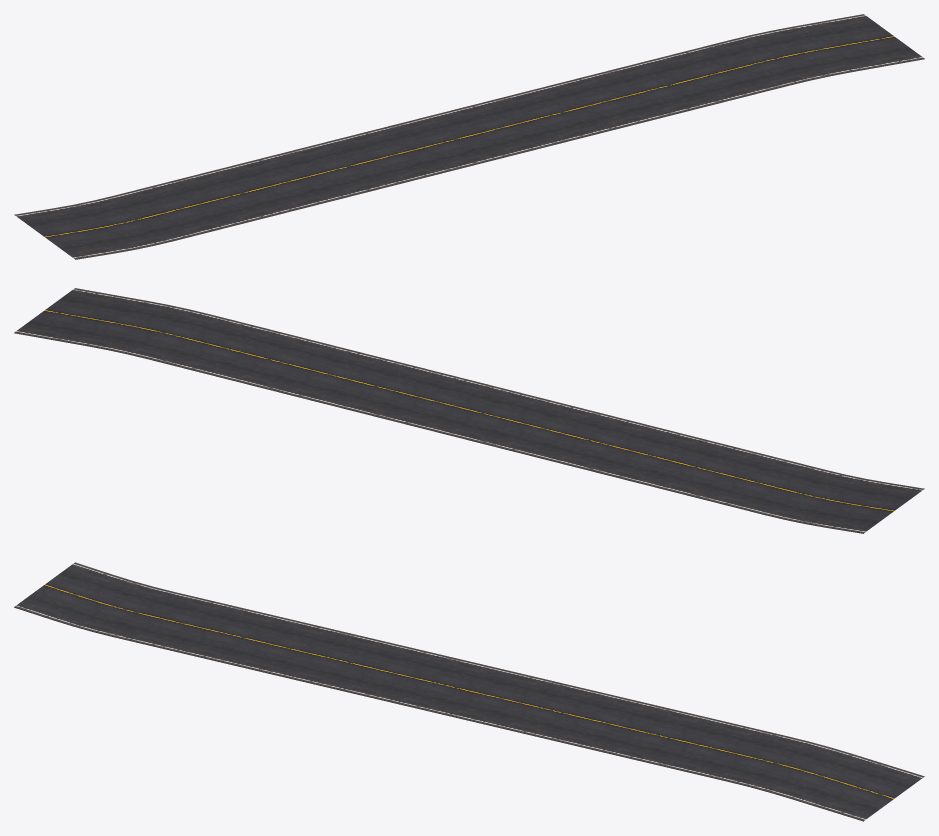
The model's file is TRF0110013.fbx.
The picture shows the model from 3 angles, top to bottom: view 1: azimuth 30°, elevation 25°; view 2: azimuth 150°, elevation 25°; view 3: azimuth 330°, elevation 25°; orthographic projection.
Parts seen in each view (by area): view 1: smTRF0110013; view 2: smTRF0110013; view 3: smTRF0110013.
Part boxes in pixels (x1,y1,x2,y2): smTRF0110013: (14, 14, 924, 259); smTRF0110013: (14, 288, 924, 533); smTRF0110013: (14, 562, 924, 821).
Size of the model in its own units: 9634 by 77.35 by 1200.
Materials: 1 (1 with a texture image).
